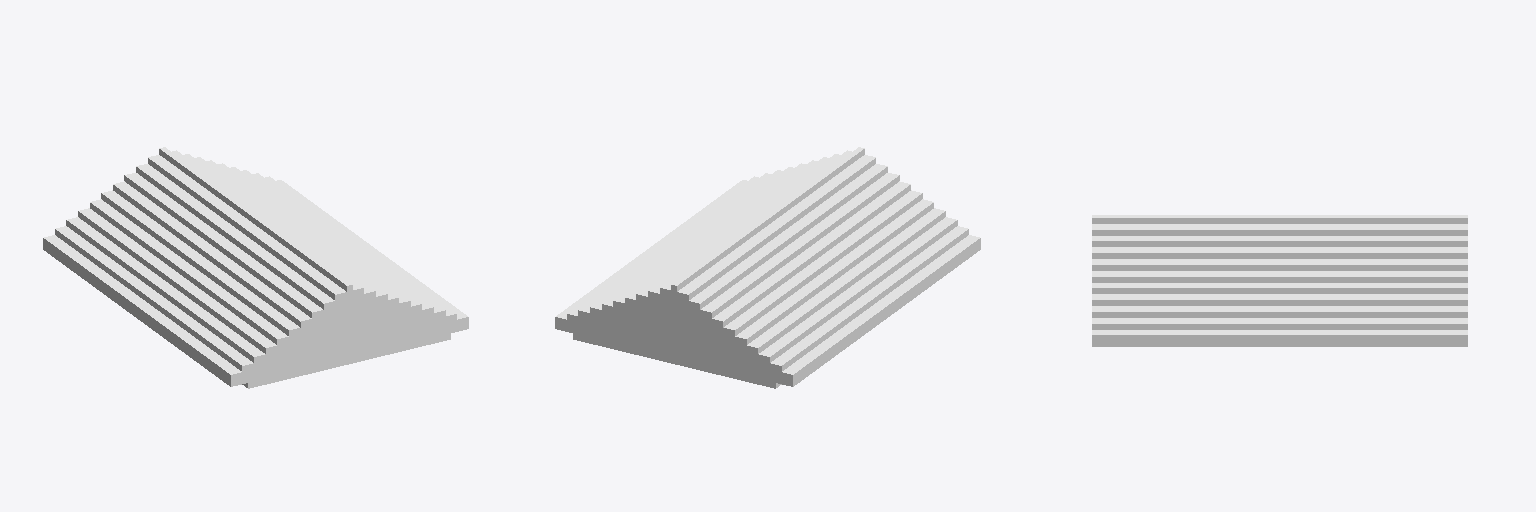
Rendered from topHouse.obj.
3 renders of one model, left to right at view 1: azimuth 30°, elevation 25°; view 2: azimuth 150°, elevation 25°; view 3: azimuth 270°, elevation 25°, orthographic.
Visible parts, largest first — view 1: object 1; view 2: object 1; view 3: object 1.
Part boxes in pixels (x1,y1,x2,y2): object 1: (43, 147, 468, 388); object 1: (555, 147, 980, 388); object 1: (1092, 215, 1467, 346).
Bounding box in the file's own units: 4.1 × 1.3 × 5.6.